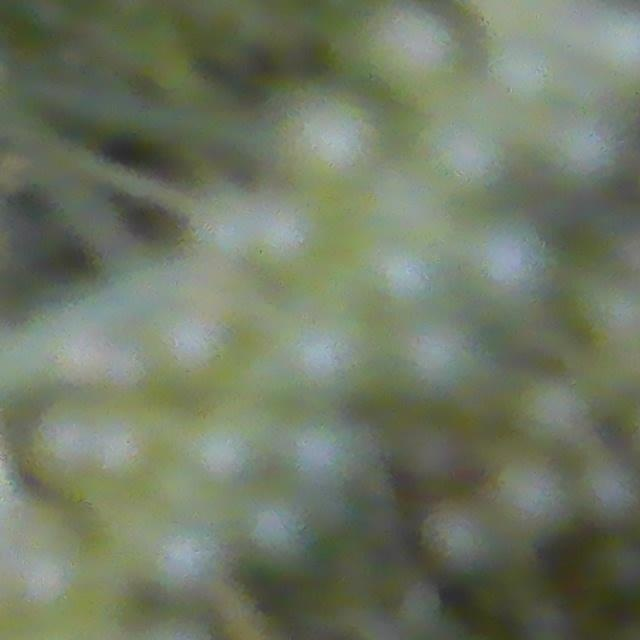SeaGrape: (362, 0, 459, 97), (293, 100, 381, 204), (465, 213, 552, 303), (148, 316, 231, 409), (1, 516, 93, 595), (281, 410, 368, 493), (426, 116, 515, 191), (85, 423, 164, 504), (182, 419, 265, 494), (486, 466, 565, 544), (231, 500, 314, 571), (148, 520, 223, 595), (512, 378, 585, 451), (485, 36, 561, 106), (397, 320, 476, 387), (535, 129, 614, 196), (395, 416, 466, 489), (247, 216, 324, 279), (421, 500, 492, 568), (376, 242, 444, 312), (285, 321, 347, 396), (575, 458, 640, 522), (585, 17, 640, 92), (587, 533, 640, 602), (39, 420, 97, 483), (206, 204, 264, 258)
